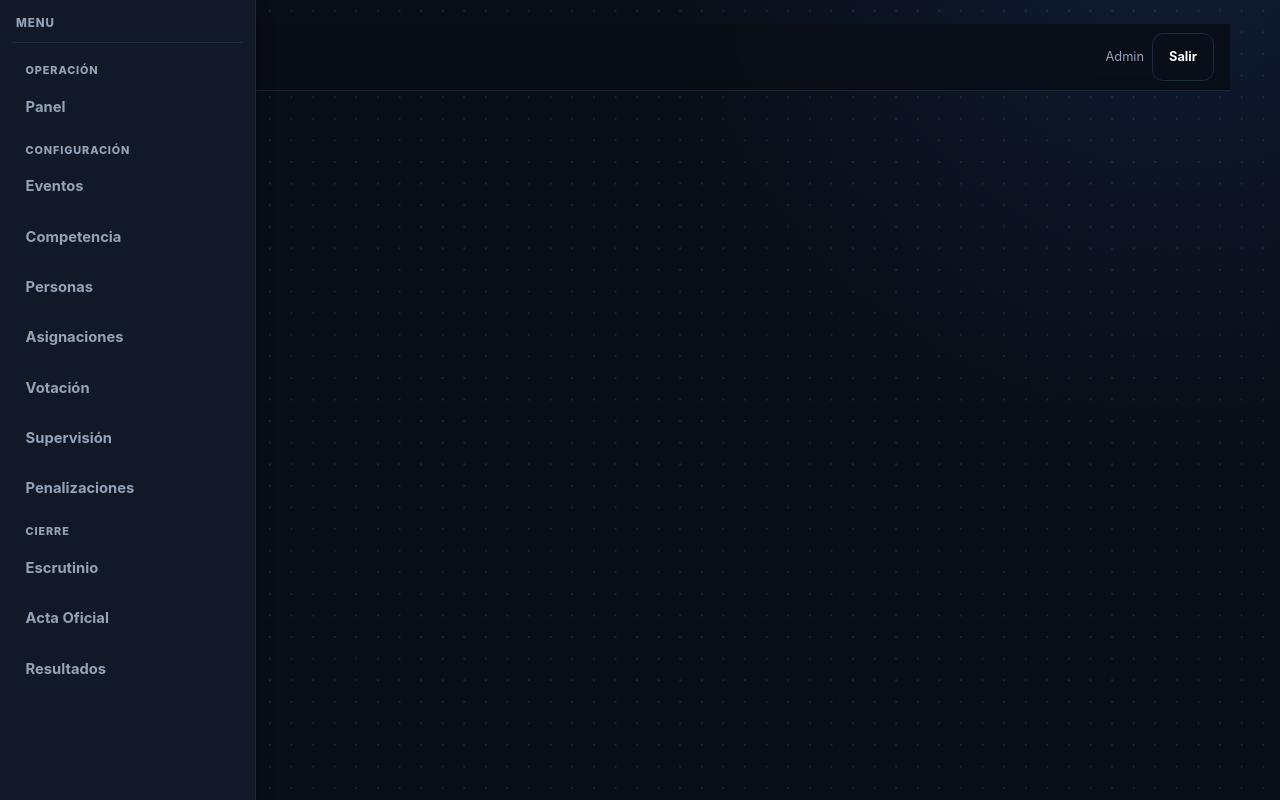
AppNavigation › no simula un cierre de sesión cuando el servidor falla
Click the button "Salir": [1183, 57] box [1152,33,1214,81]
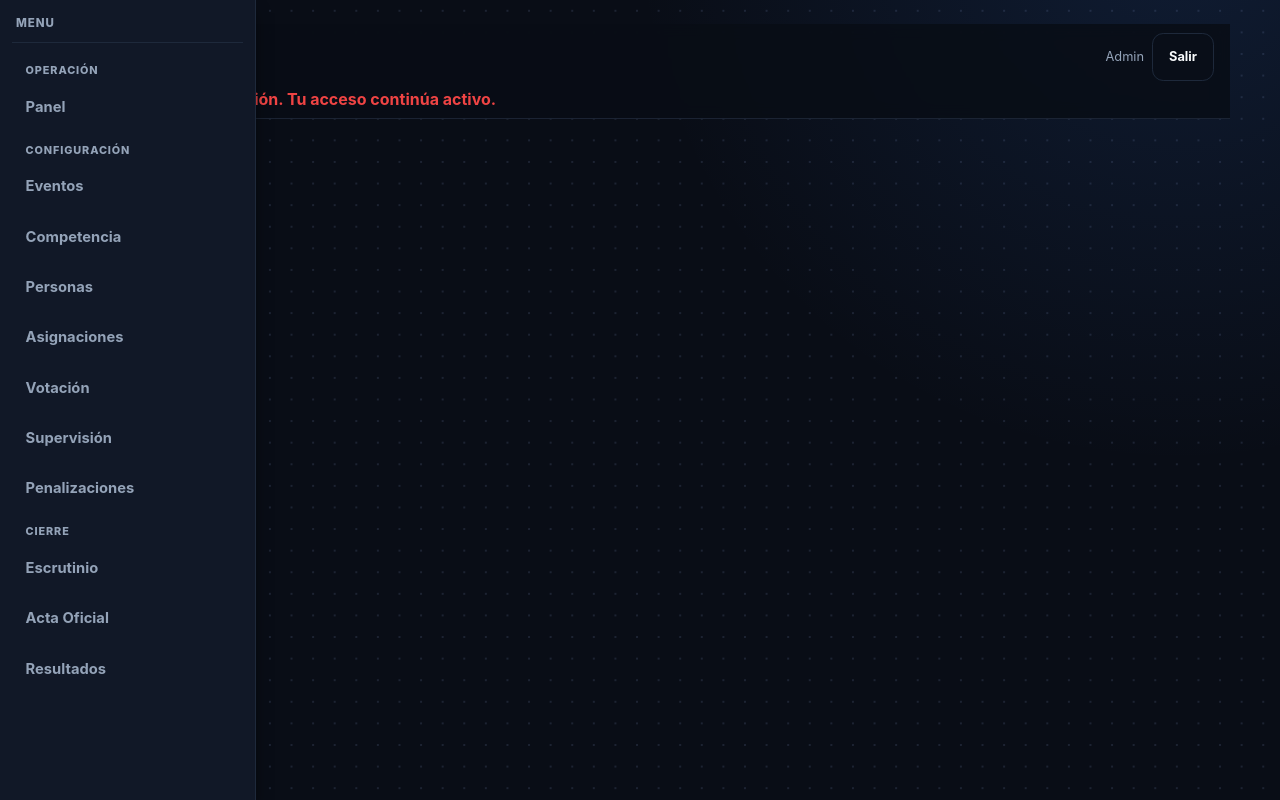
Expected: the message shows "Tu acceso continúa activo", [66,89,496,109]
